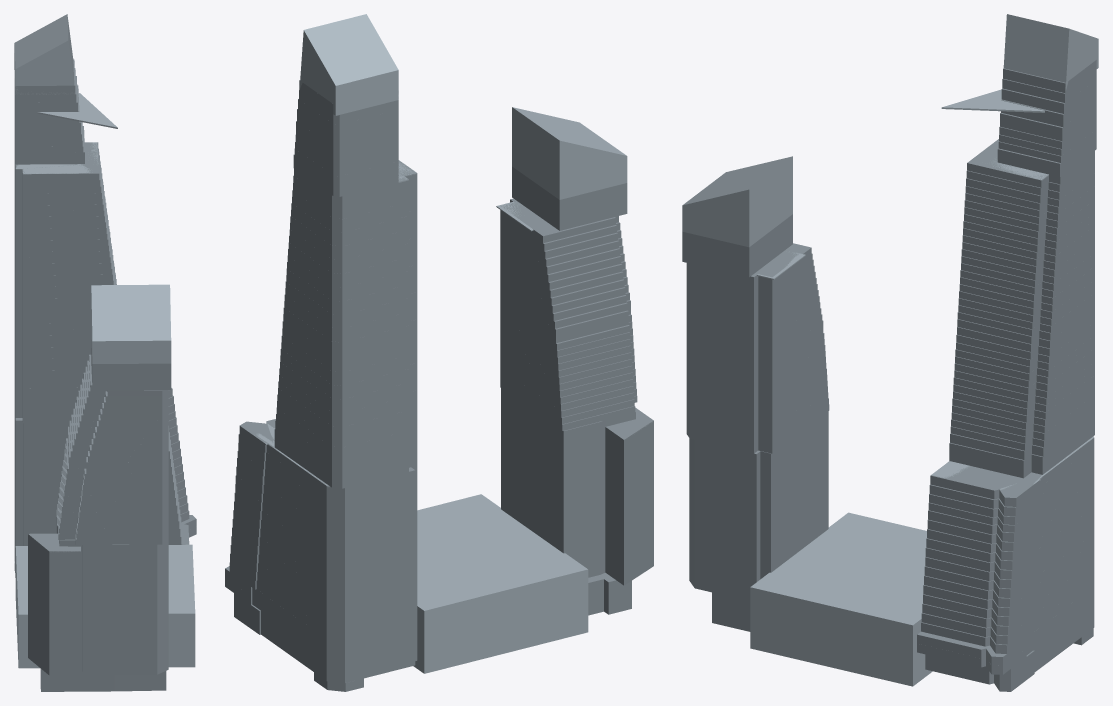
Rendered from hudson-yards-edge.glb.
The picture shows the model from 3 angles, left to right: view 1: azimuth 30°, elevation 25°; view 2: azimuth 150°, elevation 25°; view 3: azimuth 270°, elevation 25°; orthographic projection. The views are drawn at different scales.
Parts seen in each view (by area): view 1: 30 Hudson Yards (Edge); view 2: 30 Hudson Yards (Edge); view 3: 30 Hudson Yards (Edge).
Part boxes in pixels (x1,y1,x2,y2): 30 Hudson Yards (Edge): (14,14,196,691); 30 Hudson Yards (Edge): (225,14,653,691); 30 Hudson Yards (Edge): (682,14,1098,691).
Size of the model in its own units: 187 by 386 by 233.
